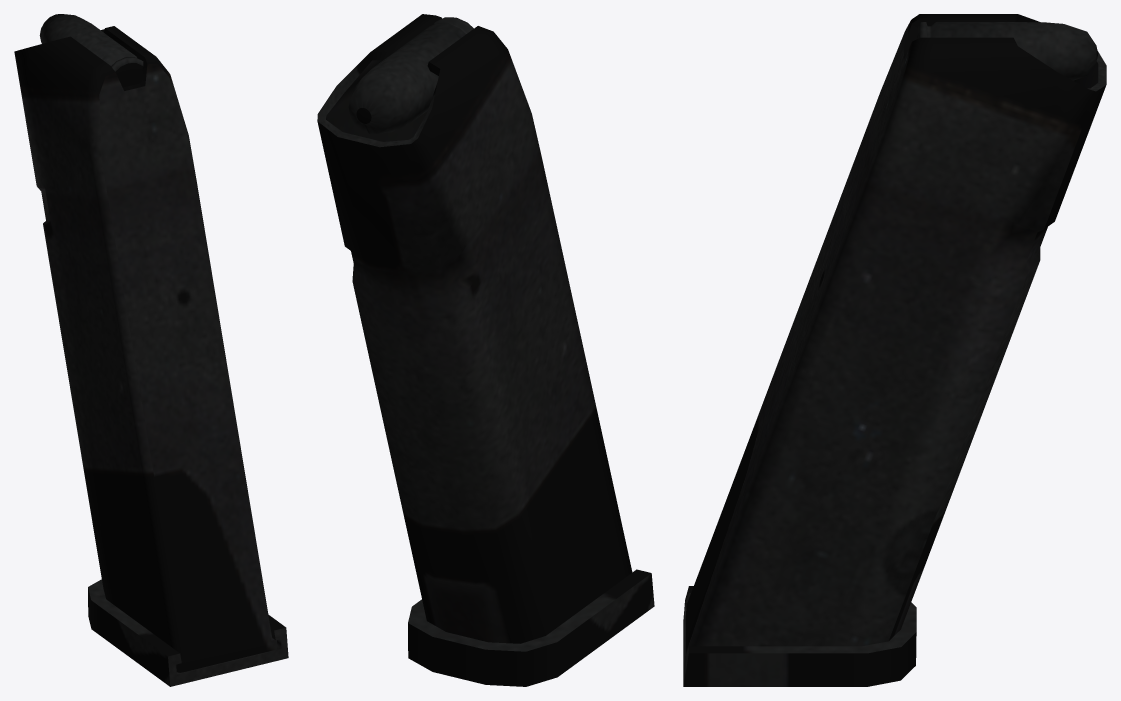
Rendered from magazin.FBX.
The picture shows the model from 3 angles, left to right: view 1: azimuth 30°, elevation 25°; view 2: azimuth 150°, elevation 25°; view 3: azimuth 270°, elevation 25°; orthographic projection. The views are drawn at different scales.
Parts seen in each view (by area): view 1: Glock02; view 2: Glock02; view 3: Glock02.
Part boxes in pixels (x1,y1,x2,y2): Glock02: [14, 14, 288, 686]; Glock02: [317, 14, 654, 686]; Glock02: [683, 14, 1106, 686].
Bounding box in the file's own units: 17.65 × 76.85 × 46.89.
Materials: 1 (1 with a texture image).
